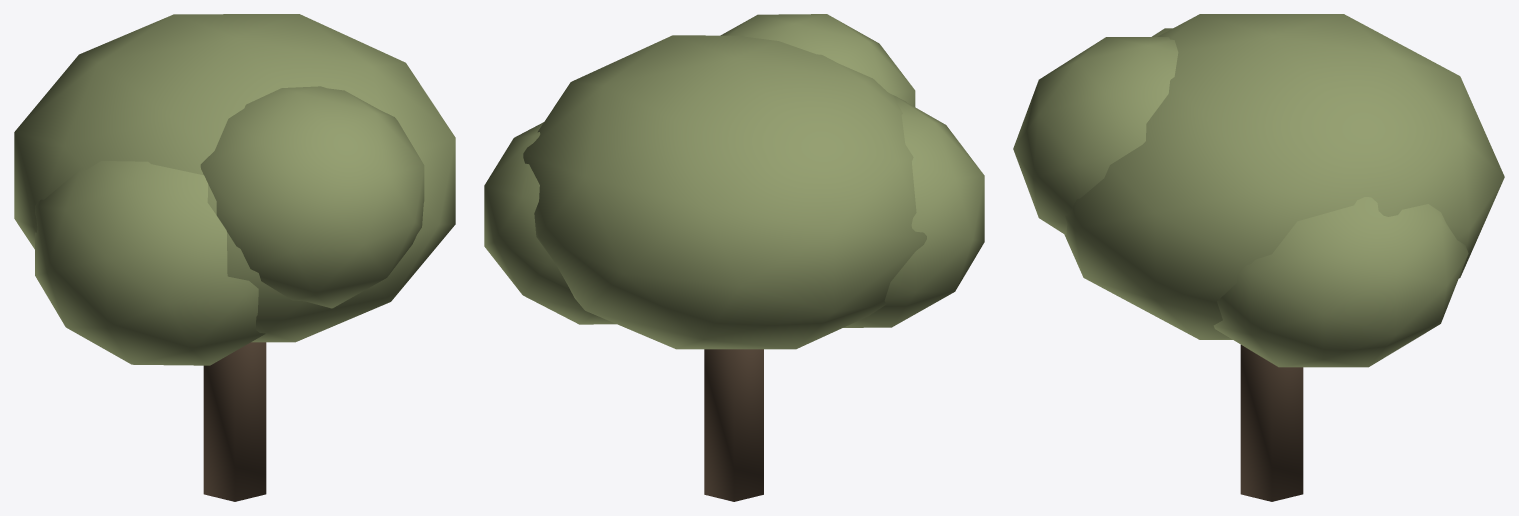
The model's file is tpl_esterni_olivo_1.glb.
3 renders of one model, left to right at view 1: azimuth 30°, elevation 25°; view 2: azimuth 150°, elevation 25°; view 3: azimuth 270°, elevation 25°, orthographic. The views are drawn at different scales.
Parts seen in each view (by area): view 1: tpl_esterni_olivo_1; view 2: tpl_esterni_olivo_1; view 3: tpl_esterni_olivo_1.
Part boxes in pixels (x1,y1,x2,y2): tpl_esterni_olivo_1: (14, 14, 455, 501); tpl_esterni_olivo_1: (484, 14, 984, 501); tpl_esterni_olivo_1: (1013, 14, 1504, 501).
Size of the model in its own units: 0.99 by 0.96 by 0.95.
